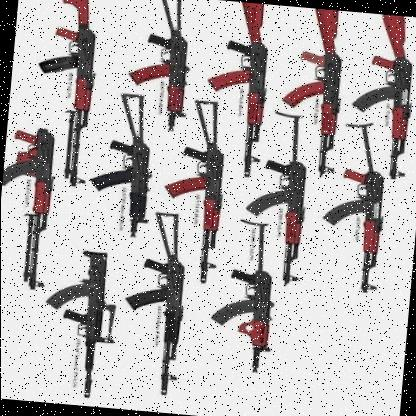rifle: (27, 0, 109, 192), (113, 208, 195, 399), (315, 120, 396, 298), (163, 98, 235, 286), (236, 111, 313, 286), (34, 246, 119, 401), (201, 0, 275, 171), (339, 12, 416, 176), (269, 6, 346, 166), (201, 219, 276, 380), (84, 90, 158, 238), (0, 123, 57, 289), (129, 0, 202, 129)
